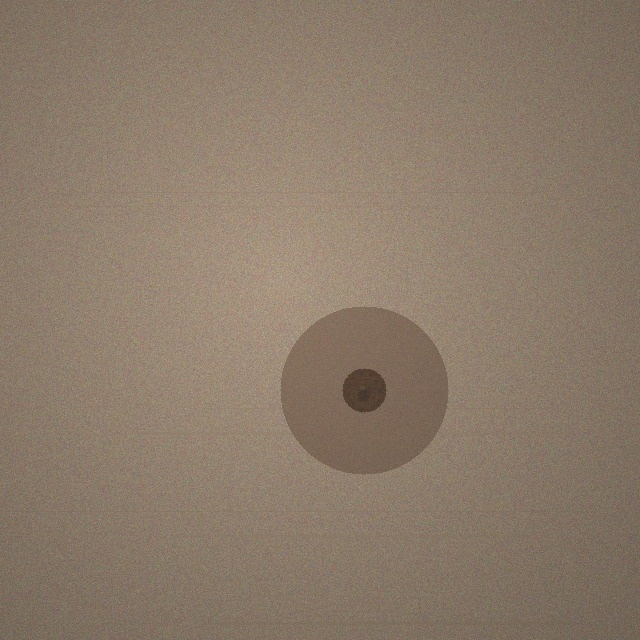cold_weld: (280, 306, 448, 474)
